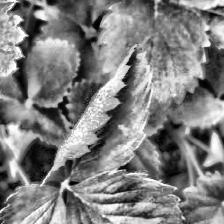Powdery Mildew Leaf: (40, 43, 153, 187)
